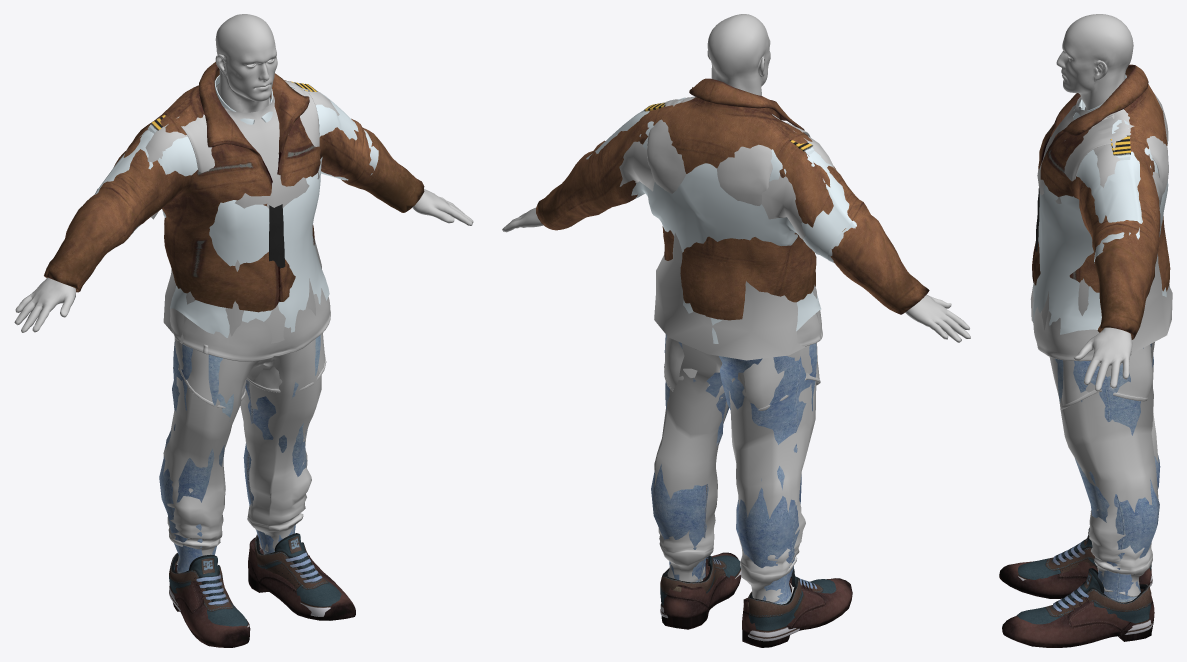
File: M_Clothing.fbx
3 renders of one model, left to right at view 1: azimuth 30°, elevation 25°; view 2: azimuth 150°, elevation 25°; view 3: azimuth 270°, elevation 25°, orthographic. The views are drawn at different scales.
Visible parts, largest first — view 1: M_Jacket, M_Joggers, M_Shirt, Body, M_TankTop, M_Jeans, M_ShoesDC, M_TShirt, M_ShoesFormal, M_Shorts; view 2: M_Jacket, M_Joggers, M_Jeans, M_Shirt, M_TShirt, Body, M_ShoesFormal, M_TankTop, M_ShoesDC, M_Shorts; view 3: M_Jacket, M_Shirt, M_Joggers, Body, M_ShoesFormal, M_Jeans, M_ShoesDC, M_TankTop, M_TShirt, M_Shorts.
Part boxes in pixels (<box>): M_Jacket: <box>44,62,424,312</box>; M_Joggers: <box>163,337,321,564</box>; M_Shirt: <box>94,75,378,337</box>; Body: <box>14,14,473,554</box>; M_TankTop: <box>170,80,330,361</box>; M_Jeans: <box>159,335,320,573</box>; M_ShoesDC: <box>169,533,341,627</box>; M_TShirt: <box>145,85,339,343</box>; M_ShoesFormal: <box>173,537,355,647</box>; M_Shorts: <box>173,333,326,408</box>; M_Jacket: <box>536,78,929,320</box>; M_Joggers: <box>654,343,816,602</box>; M_Jeans: <box>651,334,816,604</box>; M_Shirt: <box>586,97,856,343</box>; M_TShirt: <box>619,101,834,360</box>; Body: <box>502,14,970,603</box>; M_ShoesFormal: <box>661,552,852,647</box>; M_TankTop: <box>647,96,822,346</box>; M_ShoesDC: <box>660,555,836,641</box>; M_Shorts: <box>664,336,820,410</box>; M_Jacket: <box>1032,64,1170,339</box>; M_Shirt: <box>1033,74,1169,334</box>; M_Joggers: <box>1049,342,1158,596</box>; Body: <box>1056,14,1133,602</box>; M_ShoesFormal: <box>999,561,1154,647</box>; M_Jeans: <box>1055,343,1160,601</box>; M_ShoesDC: <box>1016,528,1152,636</box>; M_TankTop: <box>1033,93,1168,361</box>; M_TShirt: <box>1030,96,1172,353</box>; M_Shorts: <box>1060,344,1152,409</box>.
Size of the model in its own units: 43.71 by 54.52 by 14.33.
